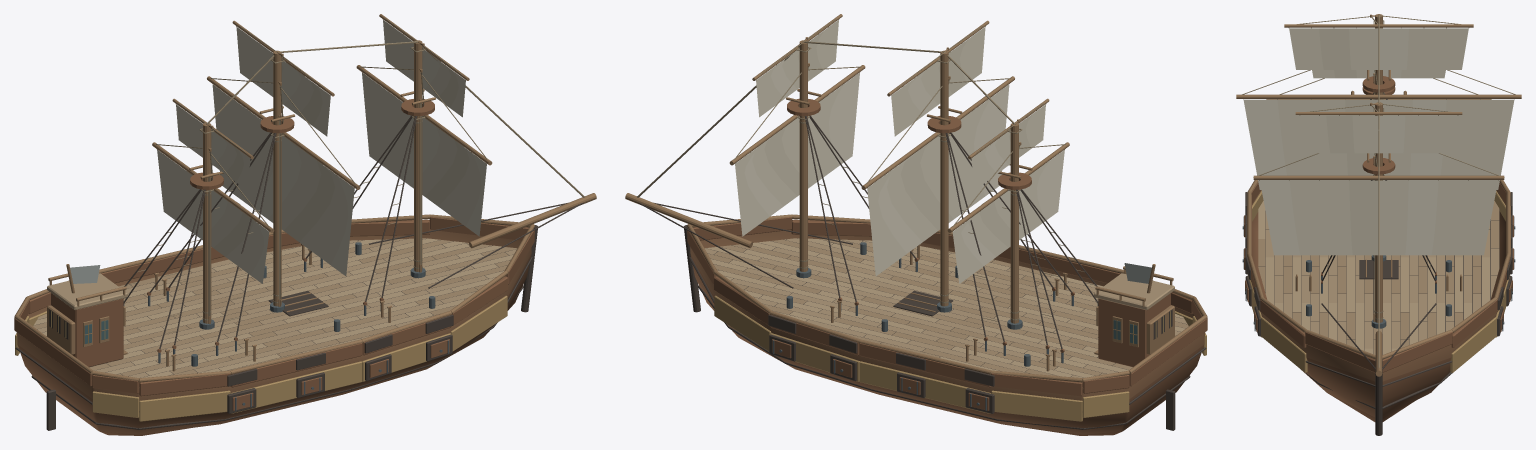
The model's file is shipOfTheLine.glb.
3 renders of one model, left to right at view 1: azimuth 30°, elevation 25°; view 2: azimuth 150°, elevation 25°; view 3: azimuth 270°, elevation 25°, orthographic. The views are drawn at different scales.
Visible parts, largest first — view 1: Hull, Sail_mast1_main, Sail_mast2_main, Sail_mast0_main, Sail_mast1_topsail, Sail_mast2_topsail, Sail_mast0_topsail, Rig_mast1, Rig_mast2, Rig_mast0; view 2: Hull, Sail_mast1_main, Sail_mast2_main, Sail_mast0_main, Sail_mast1_topsail, Sail_mast2_topsail, Sail_mast0_topsail, Rig_mast1, Rig_mast2, Rig_mast0; view 3: Hull, Sail_mast2_main, Sail_mast1_main, Sail_mast1_topsail, Sail_mast2_topsail, Rig_mast1, Rig_mast2, Sail_mast0_topsail, Rig_mast0.
Part boxes in pixels (x1,y1,x2,y2): Hull: (14, 40, 596, 435); Sail_mast1_main: (212, 84, 354, 276); Sail_mast2_main: (362, 72, 486, 236); Sail_mast0_main: (157, 149, 269, 283); Sail_mast1_topsail: (236, 26, 330, 136); Sail_mast2_topsail: (383, 20, 465, 117); Sail_mast0_topsail: (176, 104, 250, 190); Rig_mast1: (207, 20, 360, 189); Rig_mast2: (356, 14, 492, 165); Rig_mast0: (152, 98, 274, 232); Hull: (625, 40, 1207, 435); Sail_mast1_main: (867, 84, 1009, 276); Sail_mast2_main: (735, 72, 859, 236); Sail_mast0_main: (952, 149, 1064, 283); Sail_mast1_topsail: (891, 26, 985, 136); Sail_mast2_topsail: (756, 20, 838, 117); Sail_mast0_topsail: (971, 104, 1045, 190); Rig_mast1: (861, 20, 1014, 189); Rig_mast2: (729, 14, 865, 165); Rig_mast0: (947, 98, 1069, 232); Hull: (1242, 14, 1515, 435); Sail_mast2_main: (1260, 180, 1497, 255); Sail_mast1_main: (1243, 99, 1514, 189); Sail_mast1_topsail: (1289, 28, 1468, 69); Sail_mast2_topsail: (1300, 115, 1457, 153); Rig_mast1: (1236, 14, 1521, 99); Rig_mast2: (1253, 102, 1504, 180); Sail_mast0_topsail: (1312, 70, 1445, 78); Rig_mast0: (1266, 78, 1491, 99).
Bounding box in the file's own units: 335 × 189 × 159.
